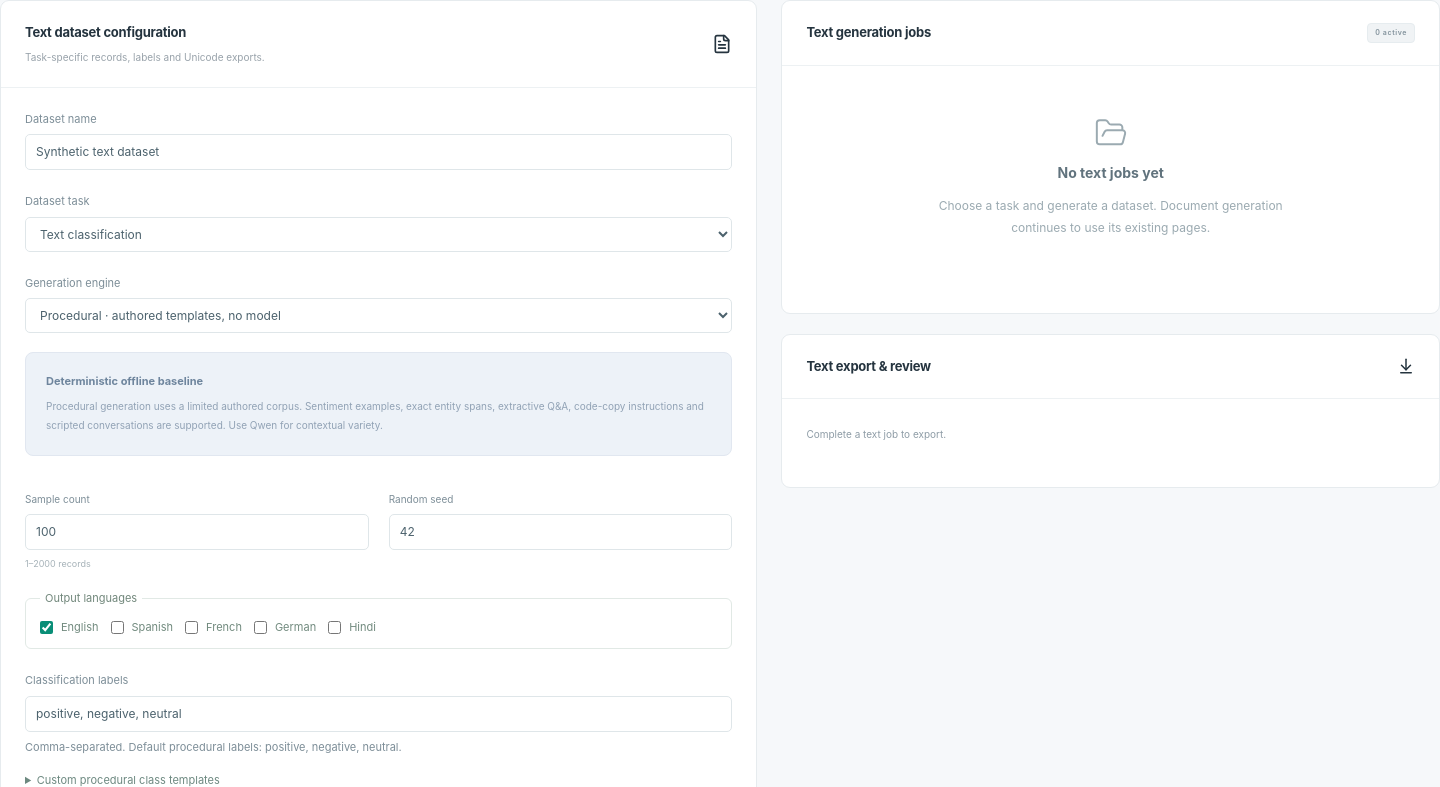
Test: Text dataset studio › shows local Qwen controls and validates augmentation input JSON
Check: the heading "No text jobs yet" is shown, box [1058, 162, 1164, 183]
Select "Local Qwen · Ollama" in the dropdown labelled "Generation engine" at coordinates (379, 316), box [25, 298, 732, 333]
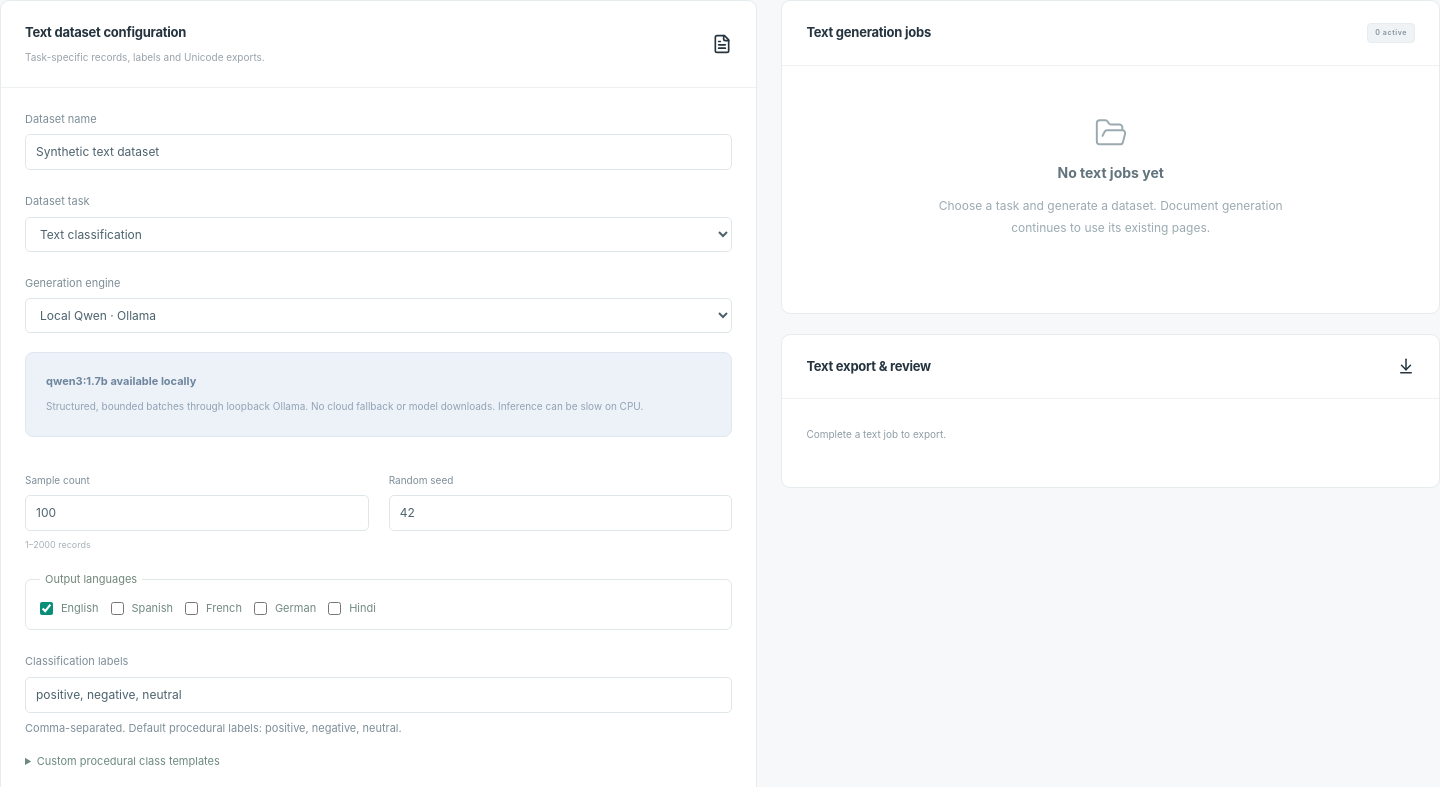
Check: the heading "qwen3:1.7b available locally" is shown, box [46, 374, 196, 388]
Select "Text augmentation" in the dropdown labelled "Dataset task" at coordinates (379, 234), box [25, 216, 732, 252]
(page scrolled)
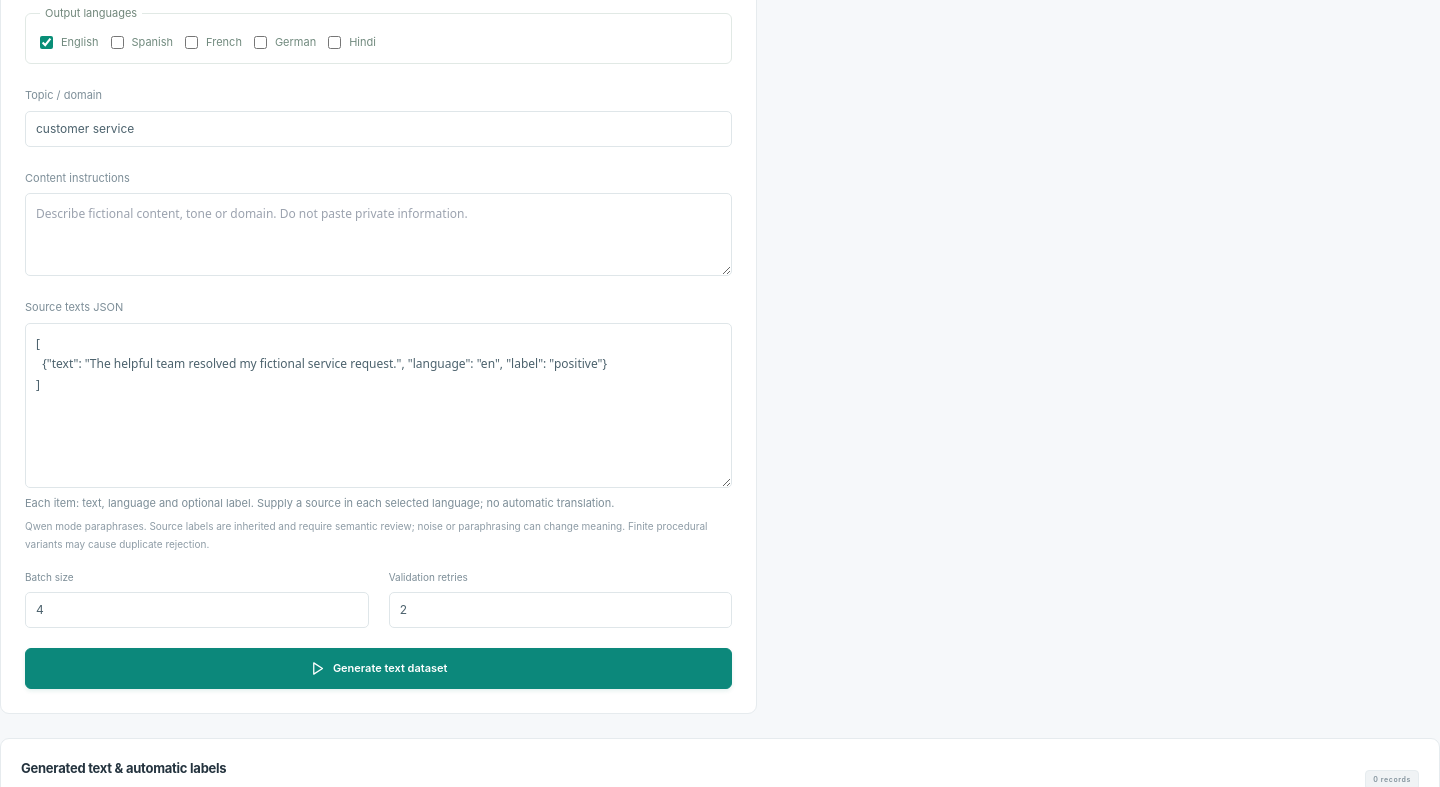
Replace the text in the text box labelled "Source texts JSON" with "broken JSON" at coordinates (379, 405), box [25, 323, 732, 488]
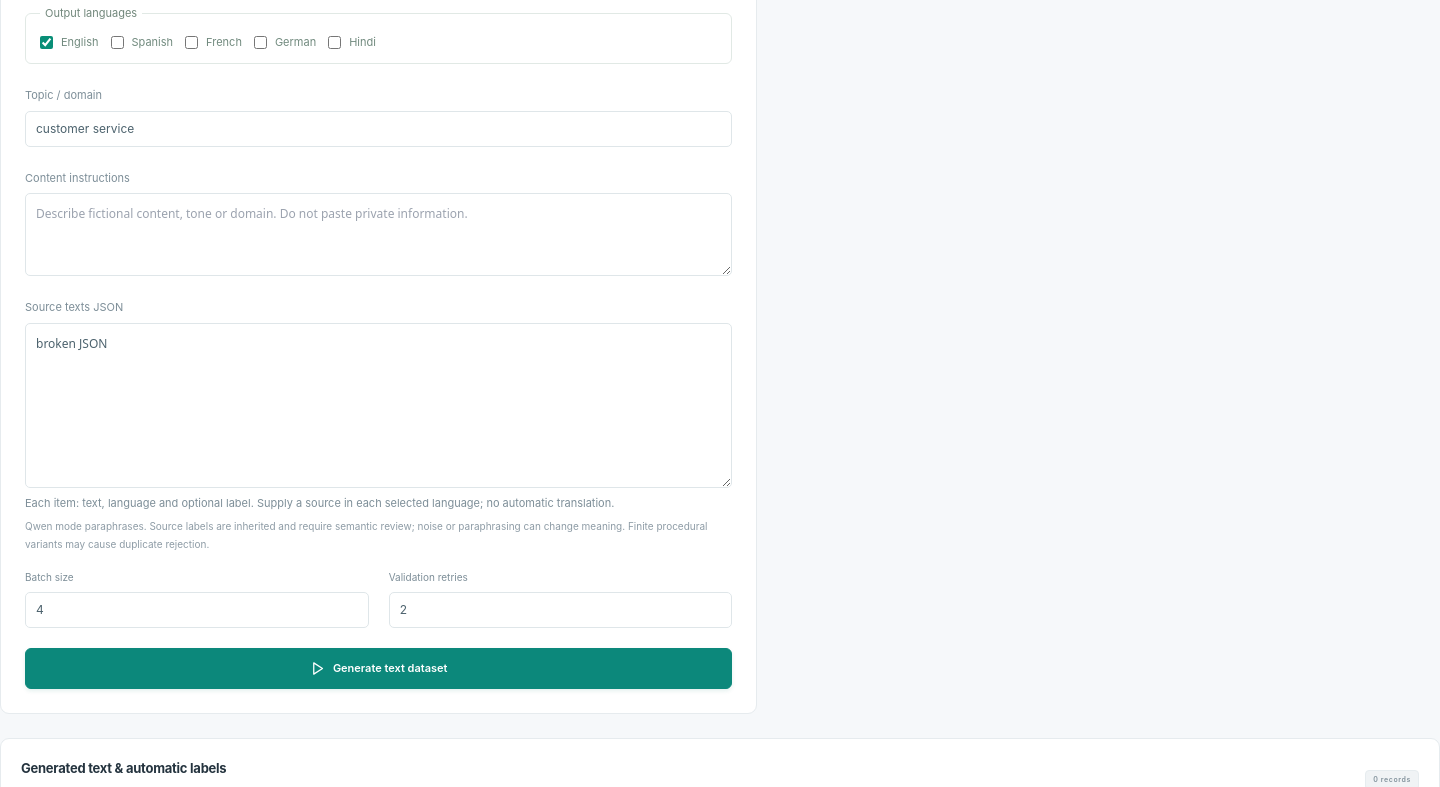
Click the button "Generate text dataset".
click(379, 668)  # box [25, 648, 732, 689]
(page scrolled)
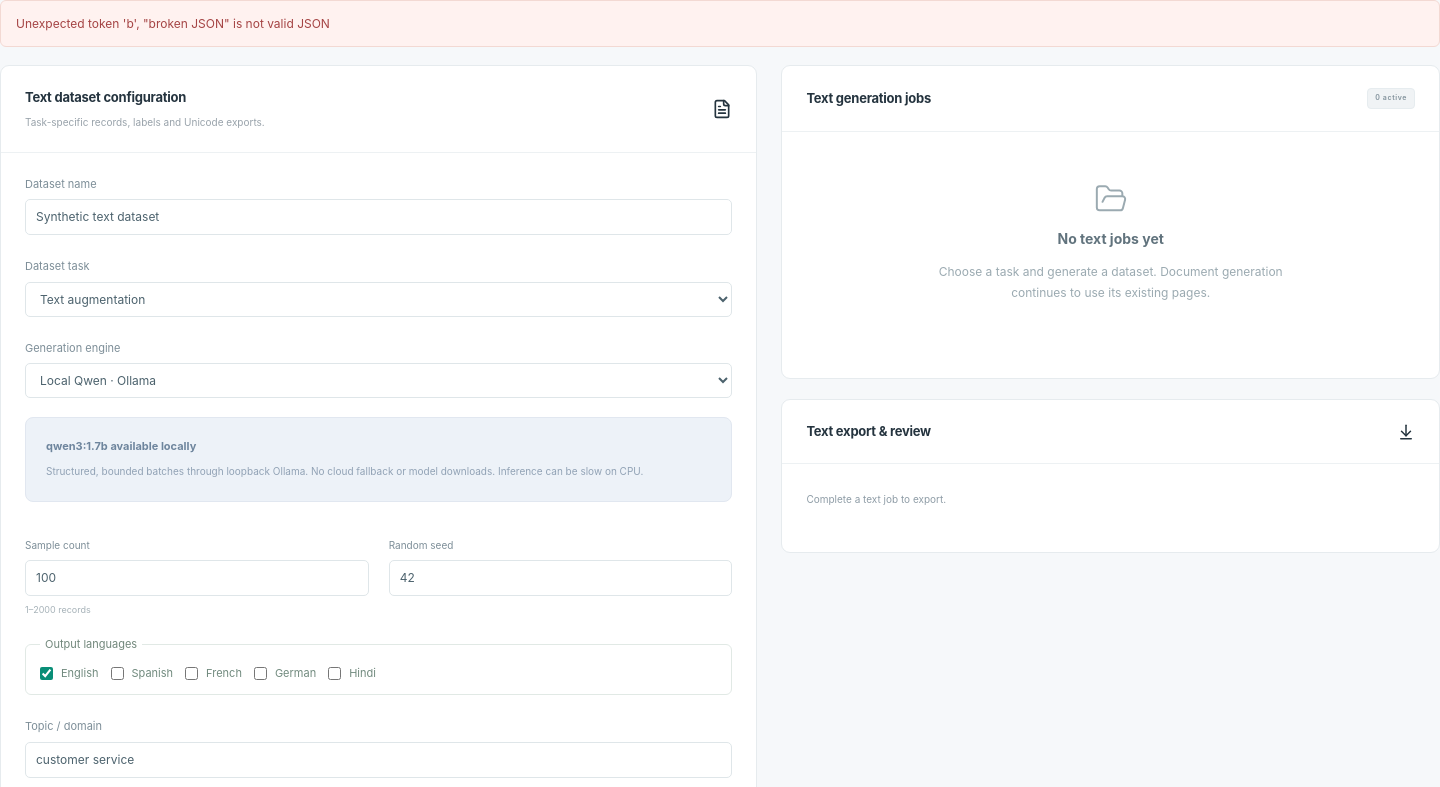
Check: the message is shown, box [0, 0, 1439, 47]
